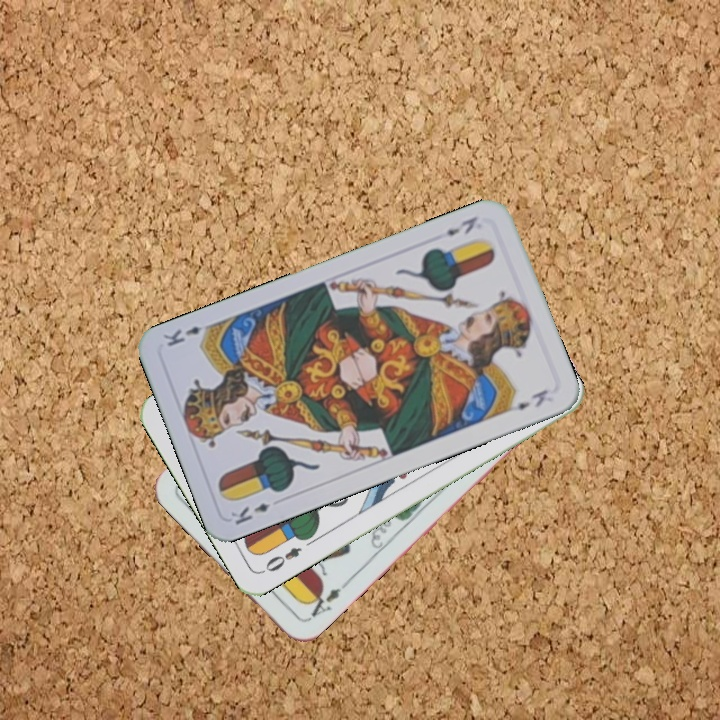EA: (301, 584, 343, 624)
EK: (226, 499, 272, 528), (441, 212, 481, 239)
EO: (258, 543, 305, 576)
